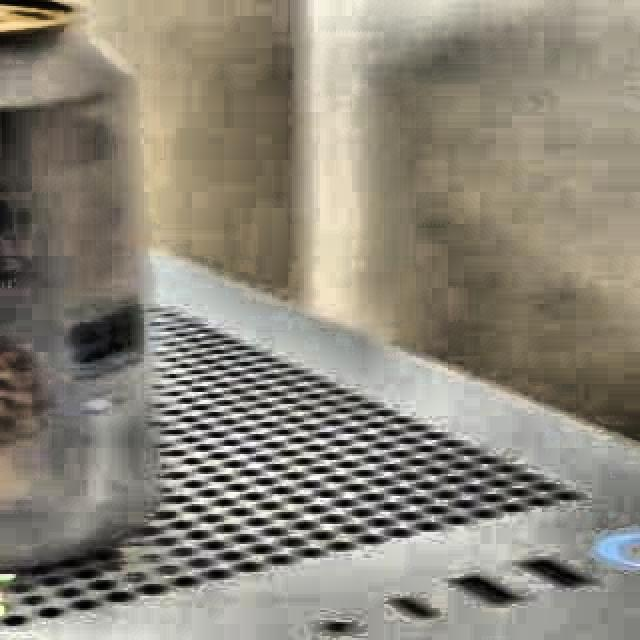metal: (0, 0, 178, 586)
